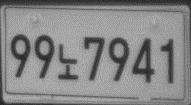1: (161, 36, 174, 85)
4: (130, 36, 156, 82)
7: (83, 35, 105, 82)
9: (107, 36, 130, 83), (33, 34, 55, 80), (10, 33, 31, 78)
노: (57, 42, 80, 80)
